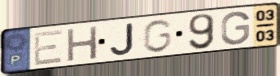9: (187, 12, 216, 51)
E: (32, 28, 64, 67)
G: (141, 18, 174, 54), (219, 10, 252, 46)
H: (66, 24, 100, 64)
J: (109, 22, 136, 57)
